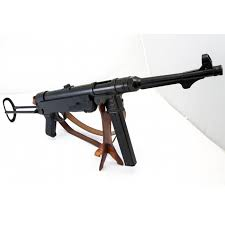Arma Real: (4, 54, 225, 167)
